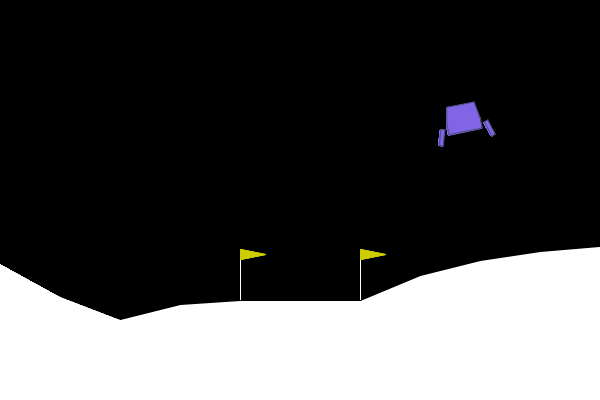lander: (430, 97, 497, 148)
